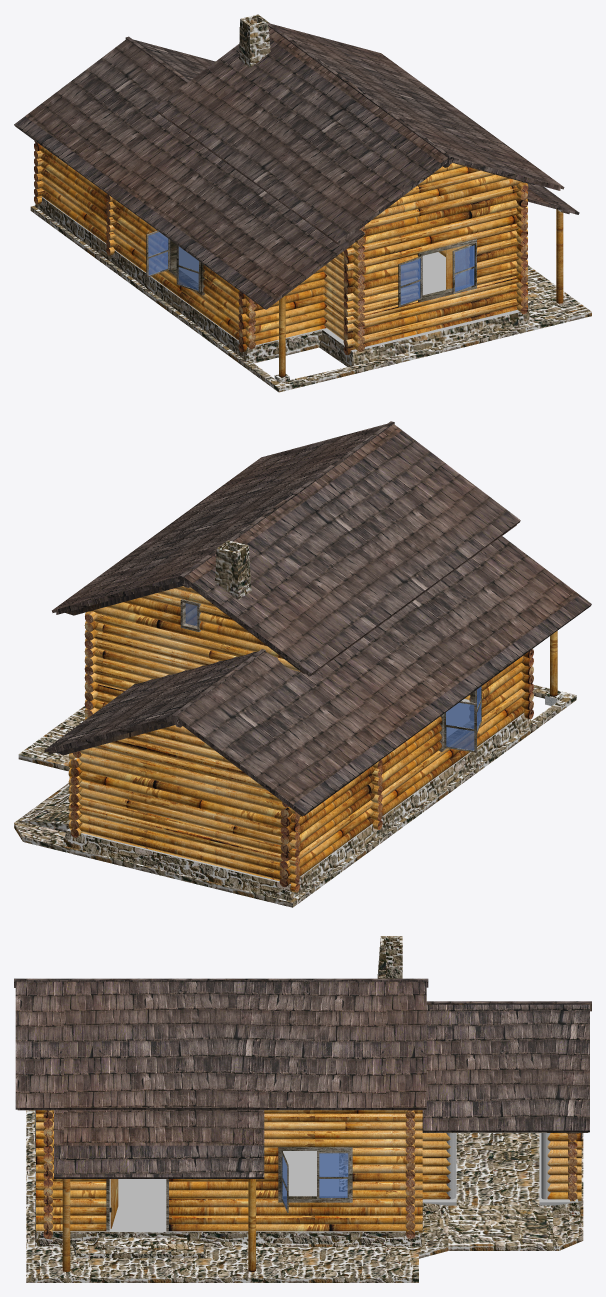
The model's file is woodenhouse.dae.
3 views of the same model, one above another, from view 1: azimuth 30°, elevation 25°; view 2: azimuth 150°, elevation 25°; view 3: azimuth 270°, elevation 25° (orthographic). The views are drawn at different scales.
Visible parts, largest first — view 1: group_0 (×35); view 2: group_0 (×36); view 3: group_0 (×29).
Boxes of the visible parts, x1=… form: group_0 (×35): x1=14, y1=14, x2=591, y2=392; group_0 (×36): x1=14, y1=421, x2=591, y2=907; group_0 (×29): x1=14, y1=936, x2=591, y2=1282.
Bounding box in the file's own units: 319 × 424 × 199.
